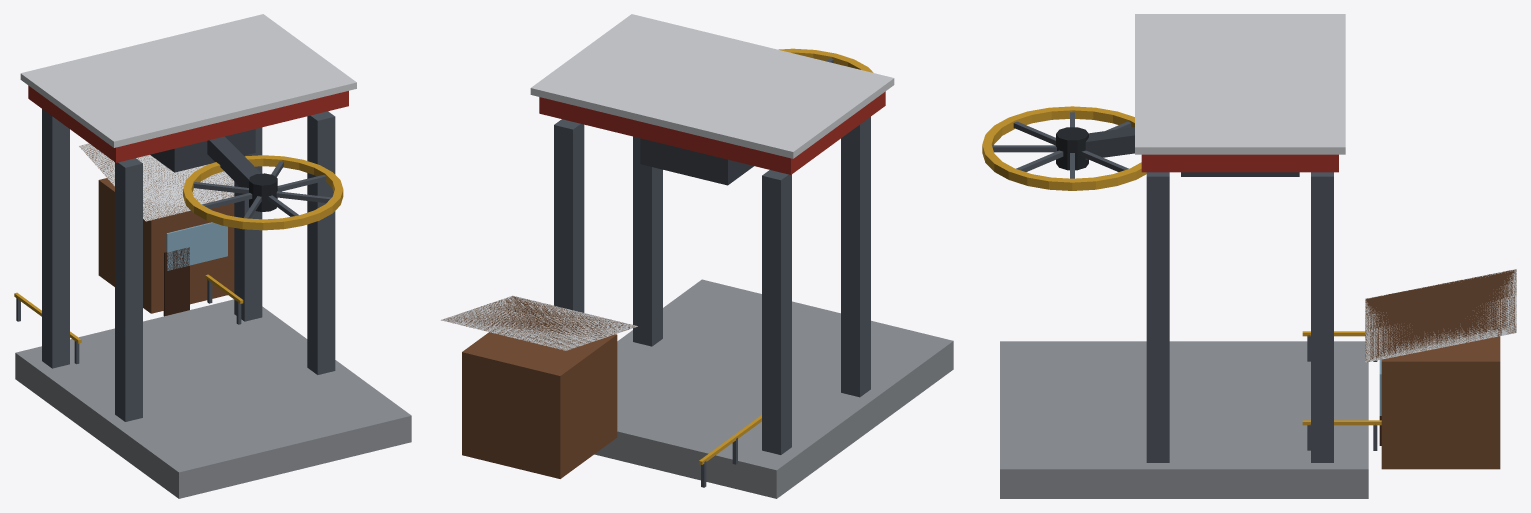
The model's file is lift-station.glb.
3 renders of one model, left to right at view 1: azimuth 30°, elevation 25°; view 2: azimuth 150°, elevation 25°; view 3: azimuth 270°, elevation 25°, orthographic. The views are drawn at different scales.
Parts seen in each view (by area): view 1: lift-station; view 2: lift-station; view 3: lift-station.
Boxes of the visible parts, bbox=[...] form: lift-station: bbox=[14, 14, 411, 498]; lift-station: bbox=[440, 14, 953, 498]; lift-station: bbox=[982, 14, 1516, 498].
Size of the model in its own units: 4.95 by 5.94 by 8.12.
